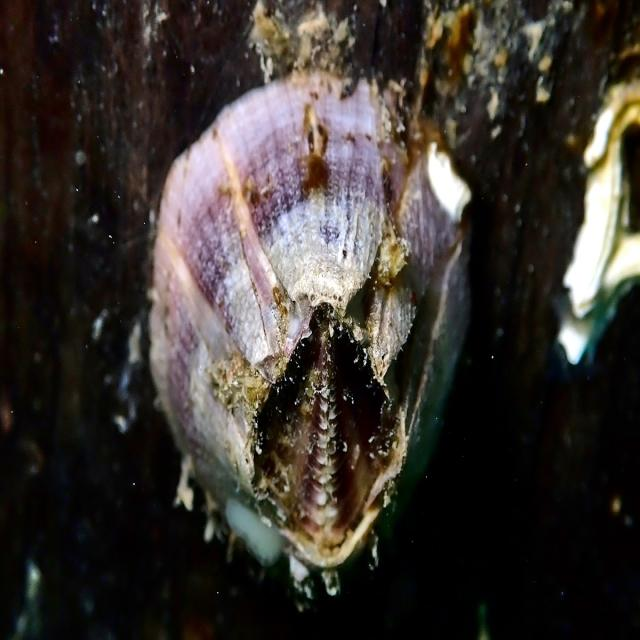barnacles: (133, 51, 477, 604)
